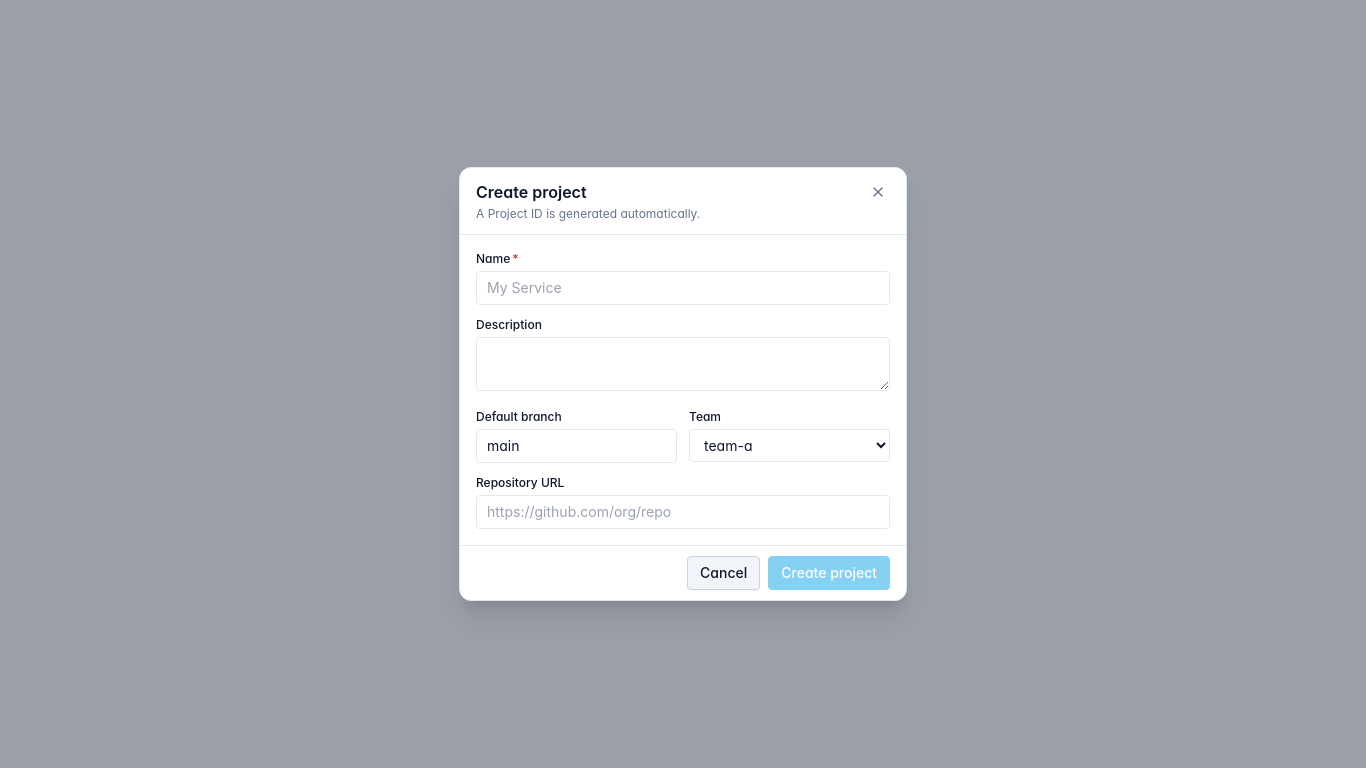
Test case: ProjectFormModal — create (v1 parity) › allows a unique name when others exist
Type "Billing" into the field with placeholder "My Service". click: x=683, y=288
box: [476,271,890,305]
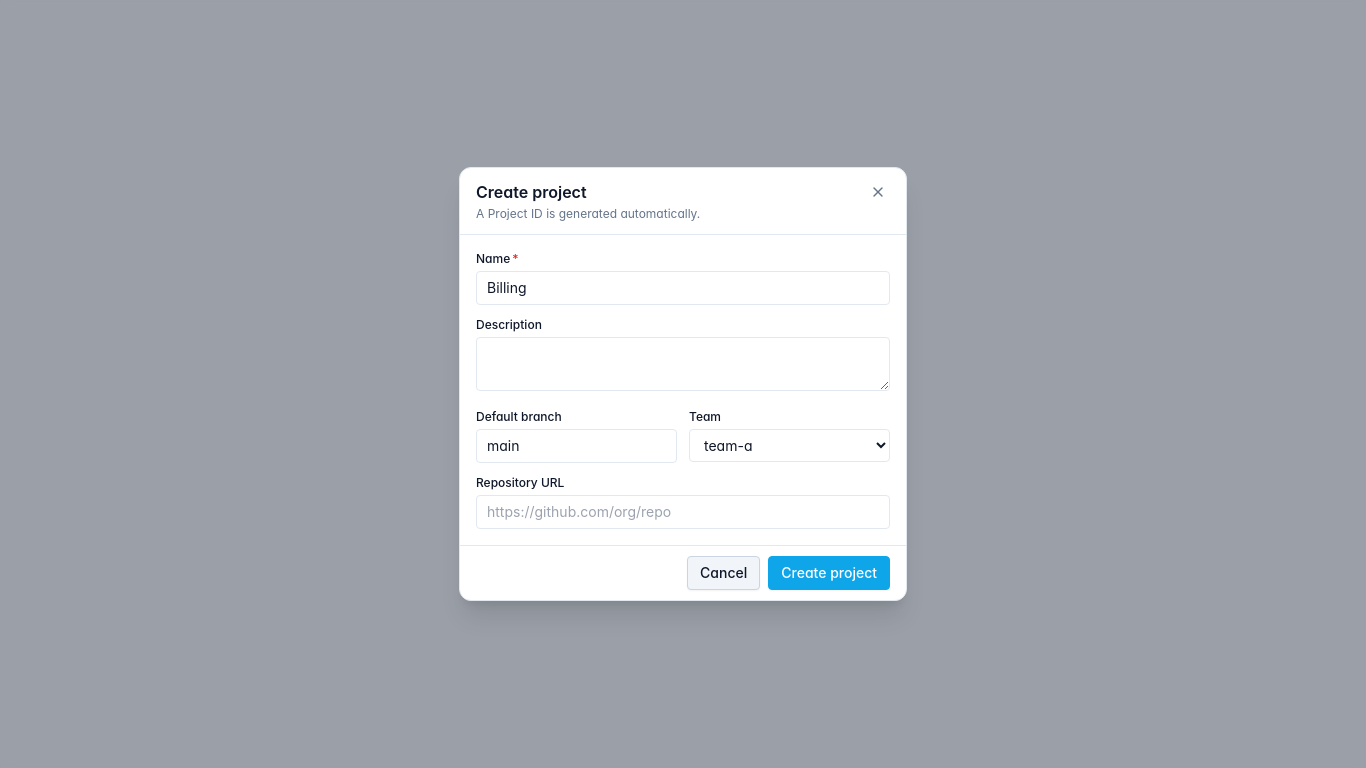
Check: the button "Create project" is enabled, box [768,556,890,590]
